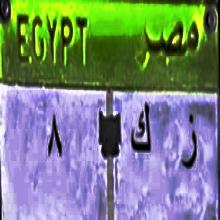8: (43, 107, 67, 171)
kaaf: (129, 96, 153, 166)
zay: (176, 110, 200, 176)
